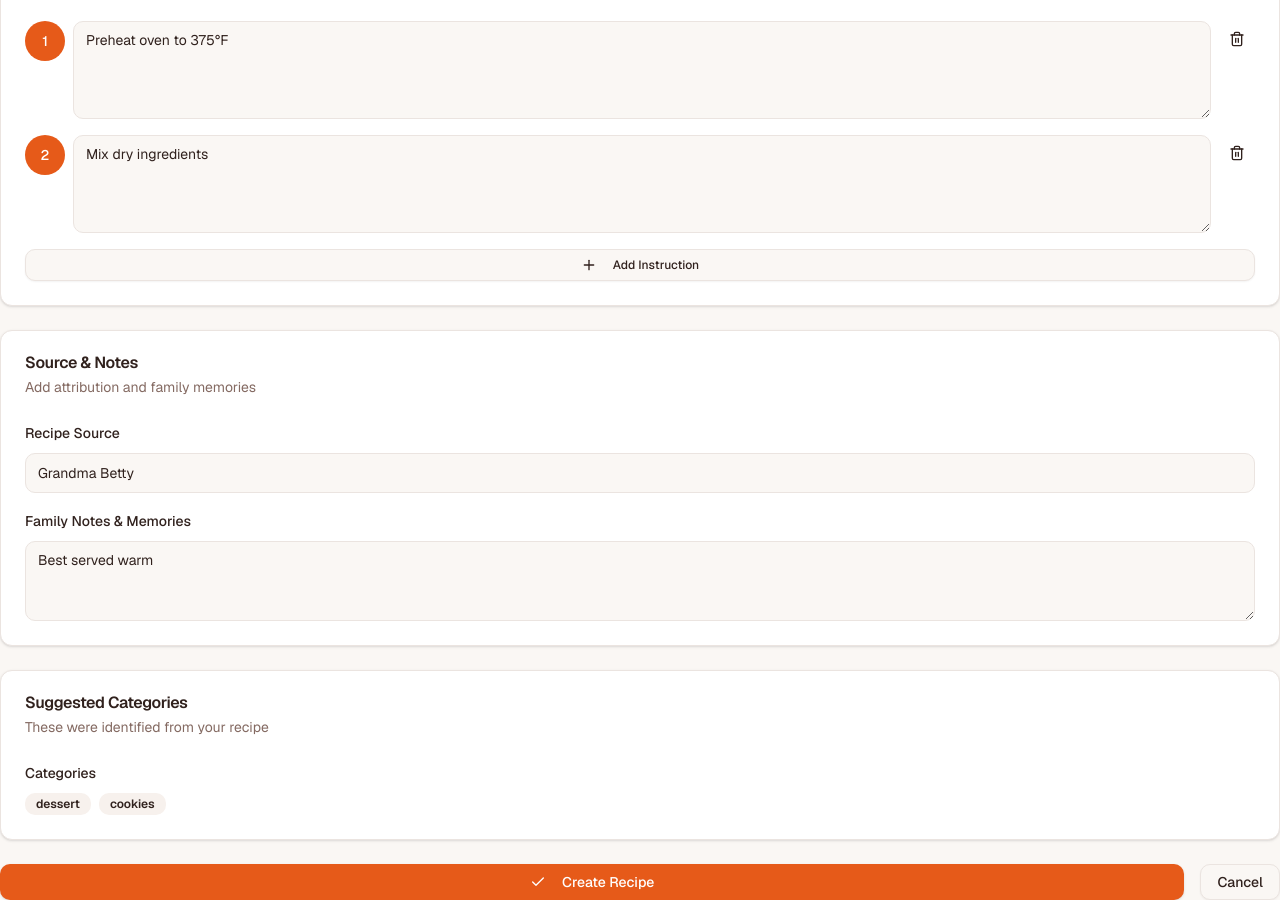
Test: OCRReviewForm › shows error message on submit failure
This screenshot has width=1280, height=900.
(page scrolled)
Click the button "Create Recipe" at (592, 882), box [0,864,1184,899]
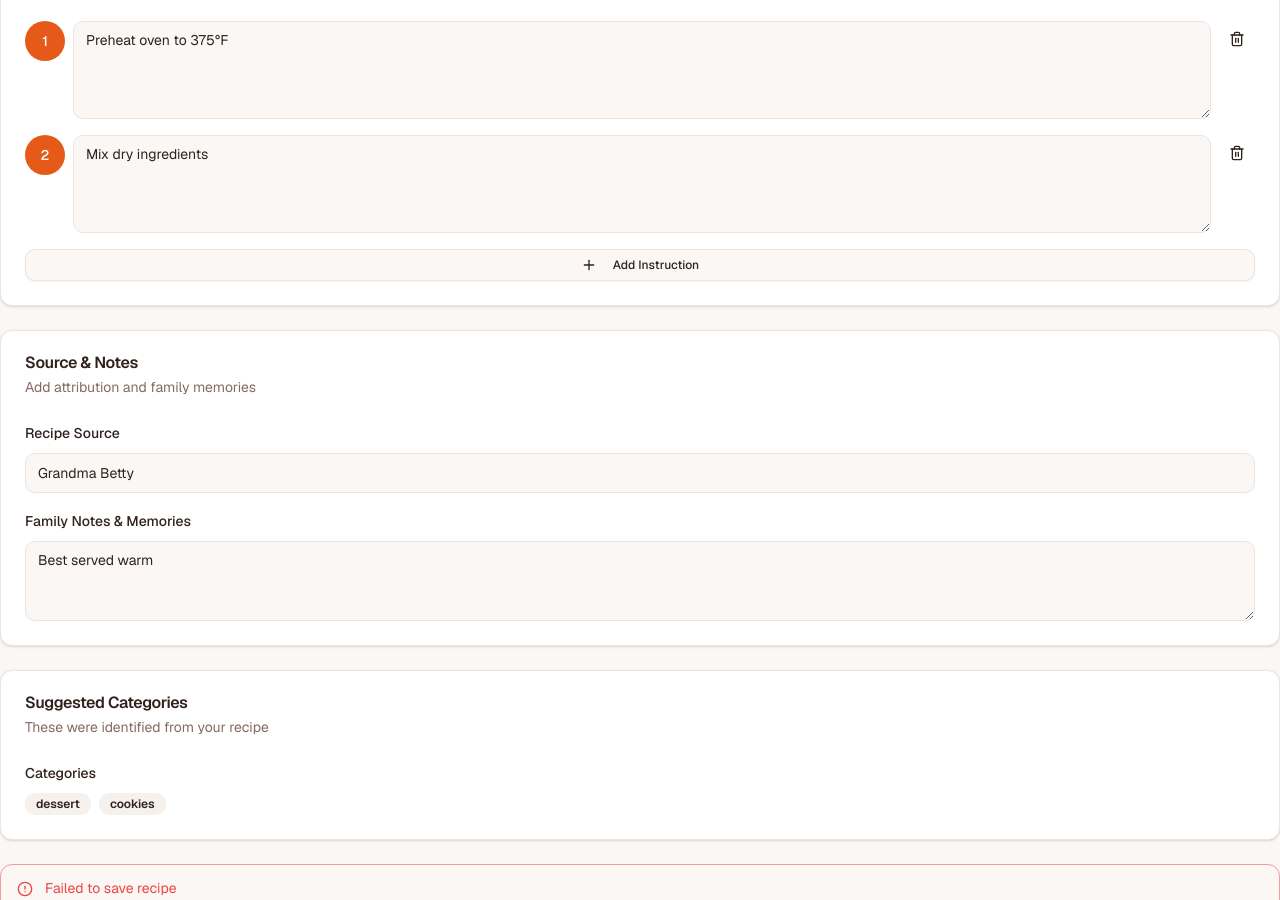
Expected: the text "Failed to save recipe" is shown, [45,879,177,897]
